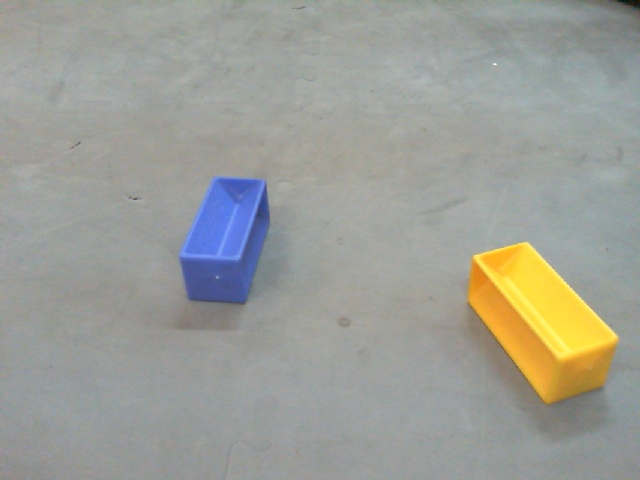BlueSample: (179, 173, 273, 304)
YellowSample: (468, 238, 621, 403)
